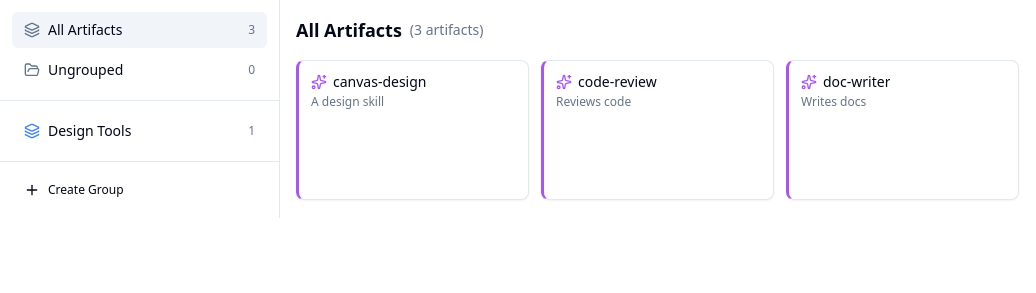
GroupedArtifactView › shows "All artifacts are assigned to groups" when ungrouped pane is empty
The image size is (1036, 293).
Note: Click Ungrouped
Click the text "Ungrouped" at (86, 70), box [48,60,123,79]
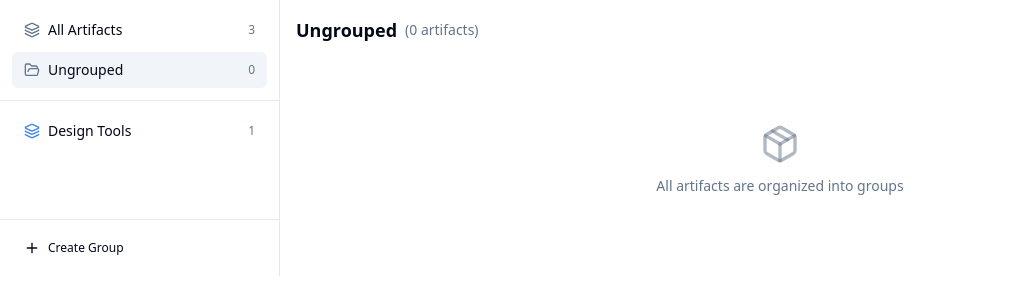
Result: the text "All artifacts are organized into groups" is shown at [656,176,904,196]
